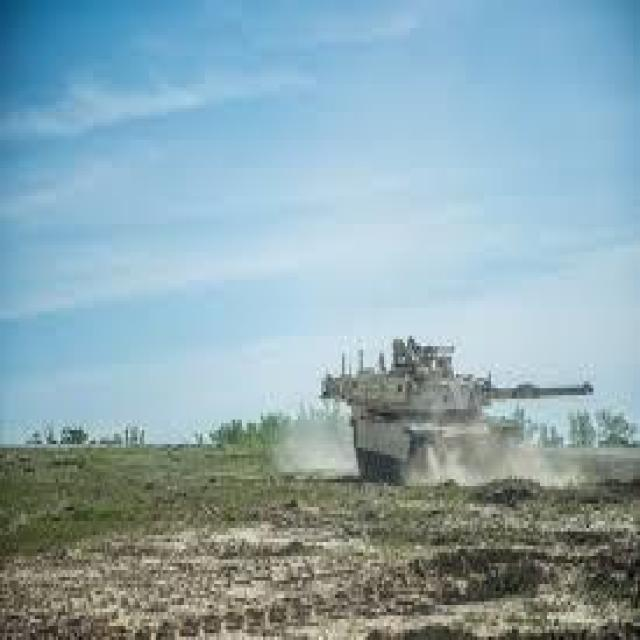MIL_MBT: (329, 317, 595, 481)
